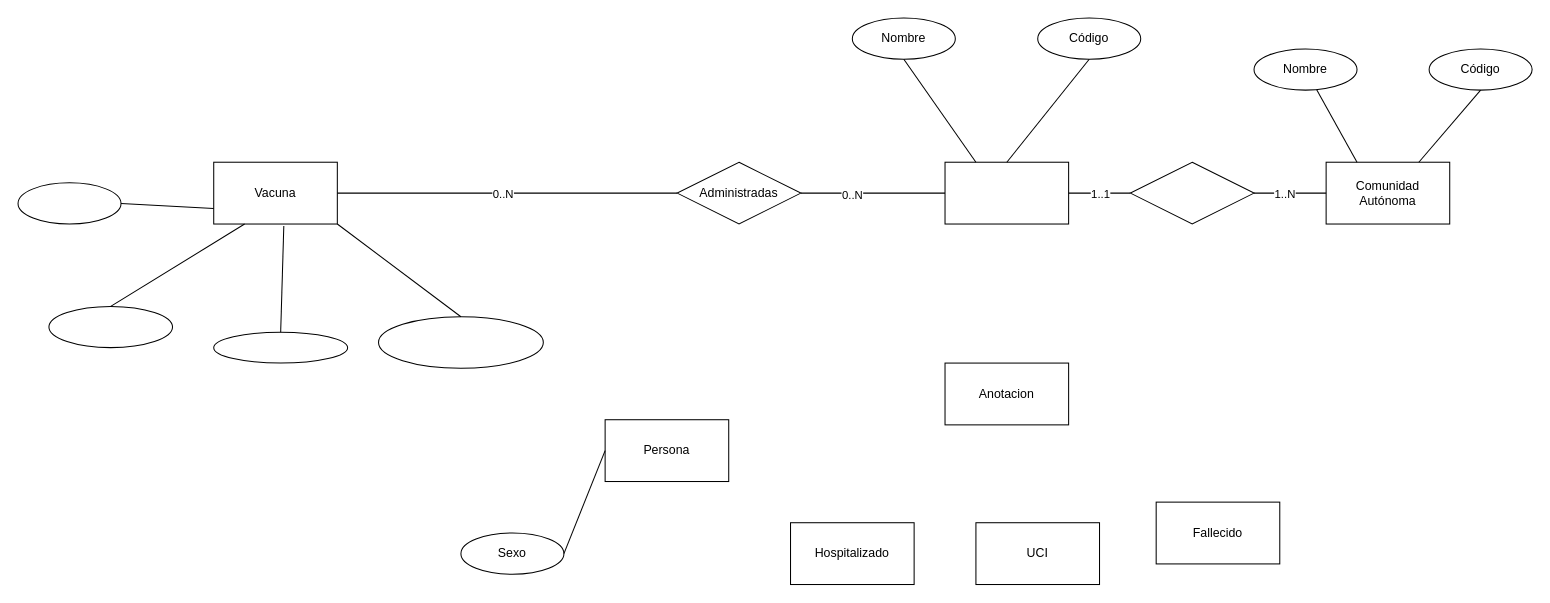
Image size: 1550x603. Some labels were removed from this diagram. Each missing label, with the box of its shape:
Pertenece: (1129, 161, 1254, 224)
Porcentaje Adm/Reciv: (377, 316, 543, 368)
Provincia: (944, 161, 1069, 224)
Recibidas: (213, 331, 348, 363)
Tipo: (17, 182, 121, 224)
Total_administradas: (48, 305, 173, 348)
